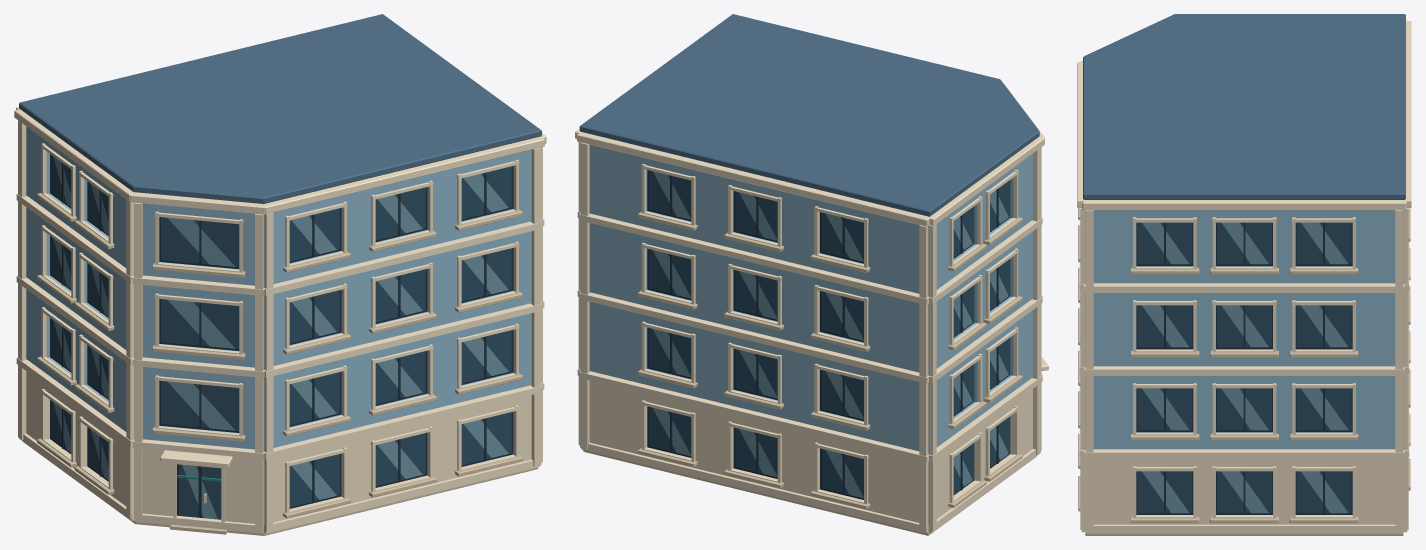
The model's file is faceted_corner_office.glb.
The picture shows the model from 3 angles, left to right: view 1: azimuth 30°, elevation 25°; view 2: azimuth 150°, elevation 25°; view 3: azimuth 270°, elevation 25°; orthographic projection. The views are drawn at different scales.
Visible parts, largest first — view 1: FacetedCornerOffice_StaticMesh; view 2: FacetedCornerOffice_StaticMesh; view 3: FacetedCornerOffice_StaticMesh.
Part boxes in pixels (bbox=[...]): FacetedCornerOffice_StaticMesh: bbox=[14, 14, 546, 535]; FacetedCornerOffice_StaticMesh: bbox=[575, 14, 1048, 535]; FacetedCornerOffice_StaticMesh: bbox=[1077, 14, 1411, 535].
Size of the model in its own units: 14.55 by 12.64 by 11.15.
